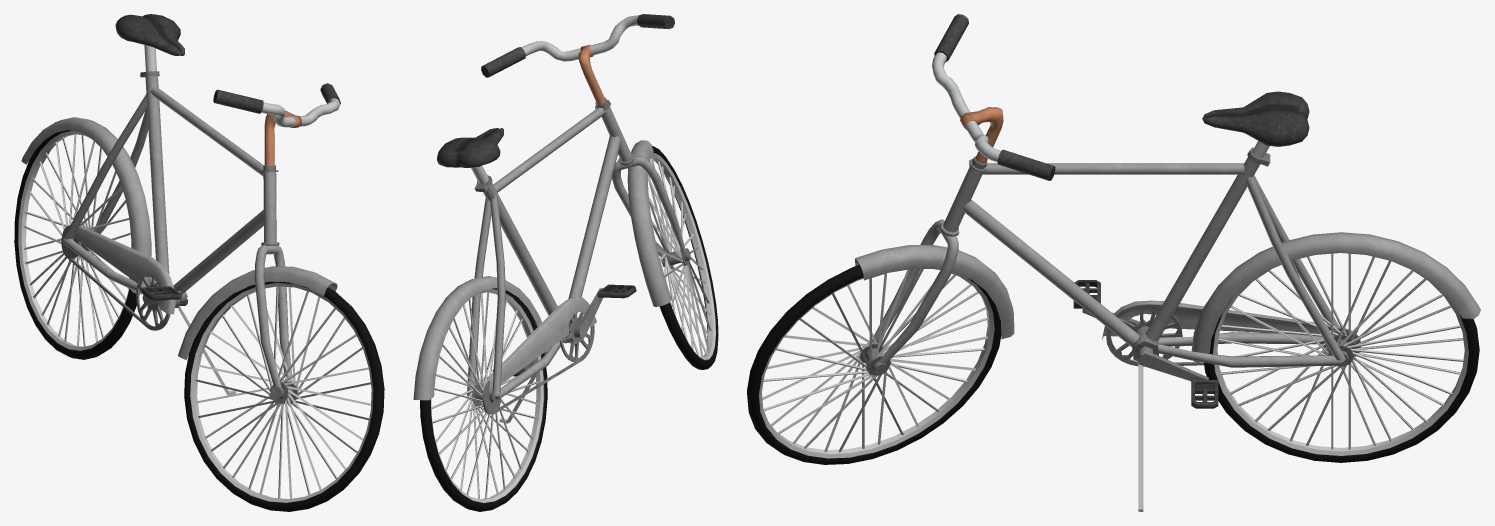
File: SM_Bicycle_parked.fbx
3 views of the same model, side by side, from view 1: azimuth 30°, elevation 25°; view 2: azimuth 150°, elevation 25°; view 3: azimuth 270°, elevation 25° (orthographic). The views are drawn at different scales.
Parts seen in each view (by area): view 1: SM_Bicycle_parked_LOD0; view 2: SM_Bicycle_parked_LOD0; view 3: SM_Bicycle_parked_LOD0.
Part boxes in pixels (x1,y1,x2,y2): SM_Bicycle_parked_LOD0: [14, 14, 384, 511]; SM_Bicycle_parked_LOD0: [413, 14, 718, 511]; SM_Bicycle_parked_LOD0: [747, 14, 1480, 511].
Size of the model in its own units: 63.9 by 195 by 131.
